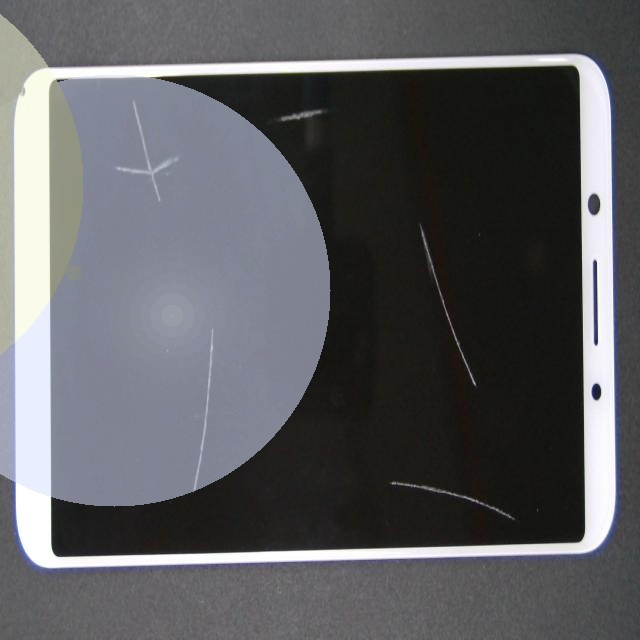scratch: (338, 279, 640, 640), (114, 63, 299, 569), (284, 264, 640, 475), (202, 49, 476, 148), (113, 83, 272, 217)
